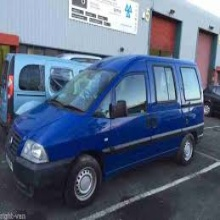no damage: (6, 55, 205, 206)
